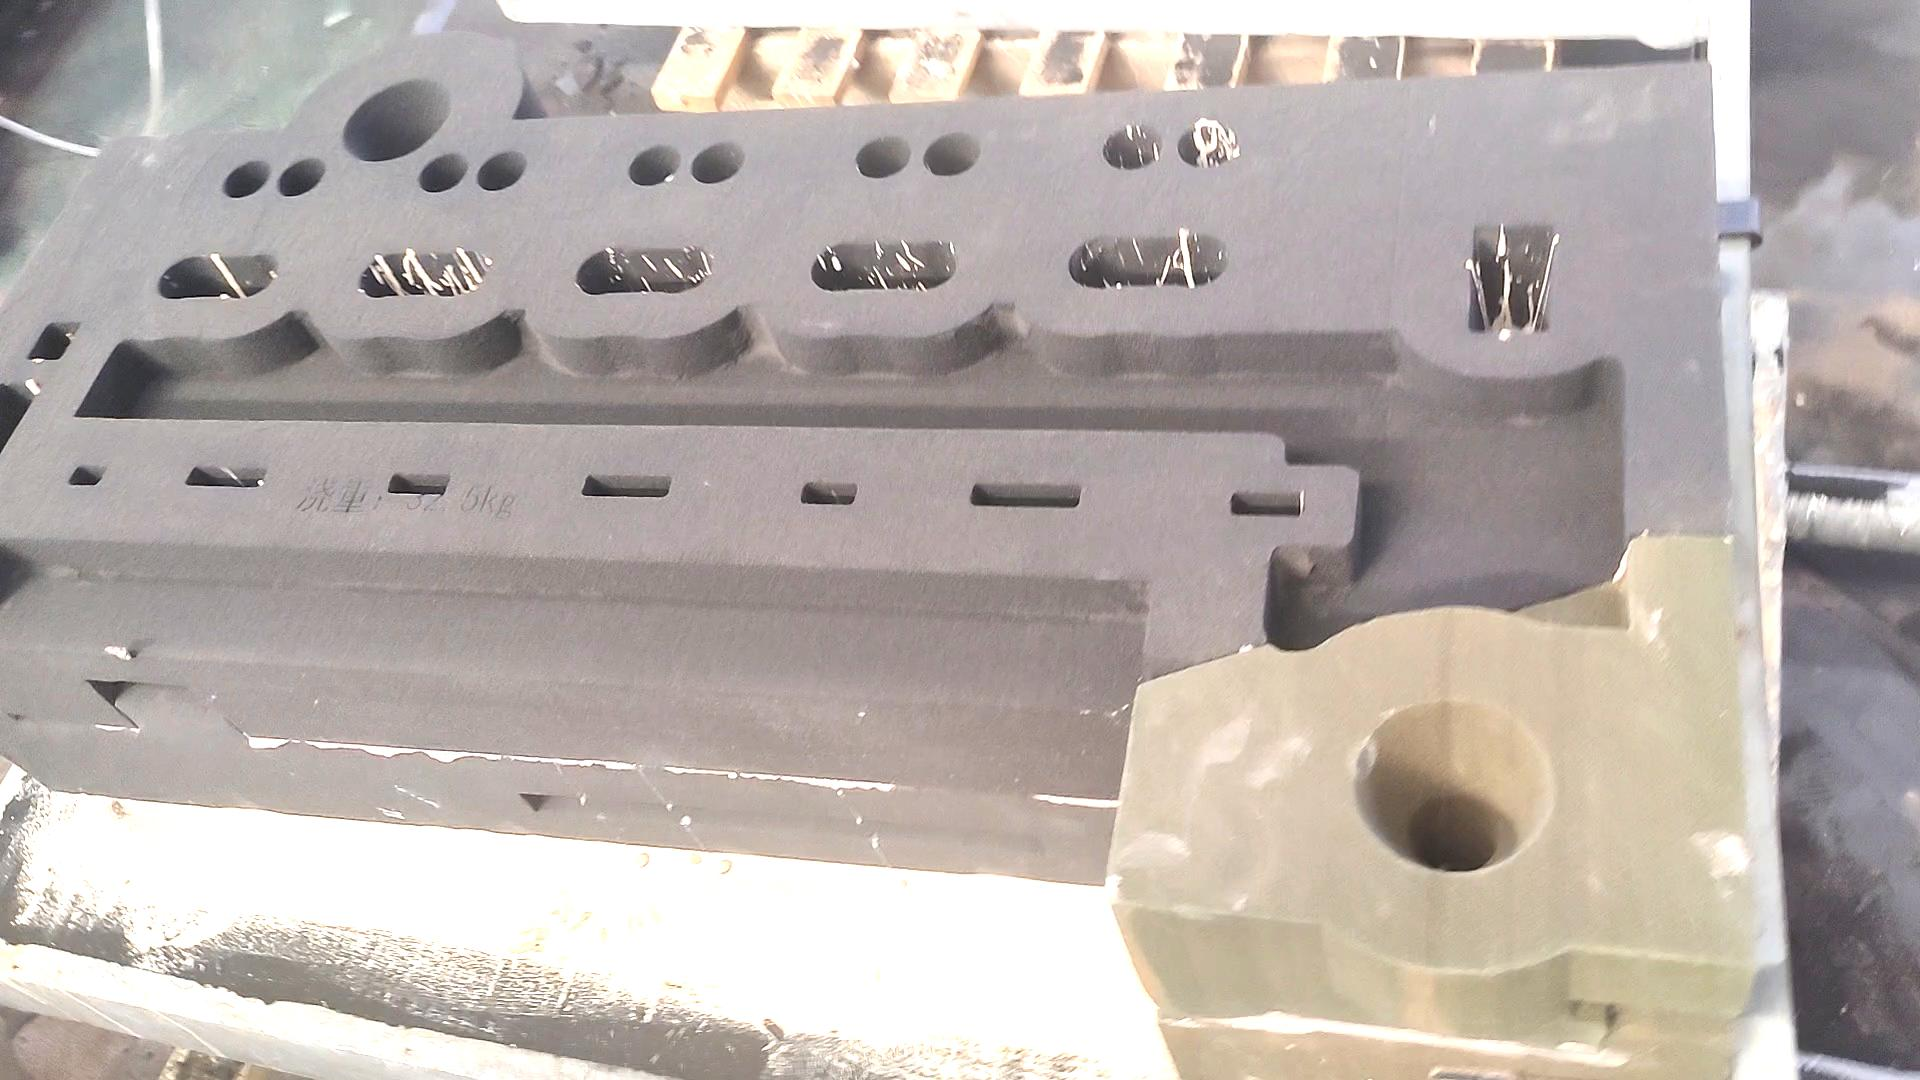pouring hole: (1350, 698, 1553, 873), (342, 76, 454, 164)
